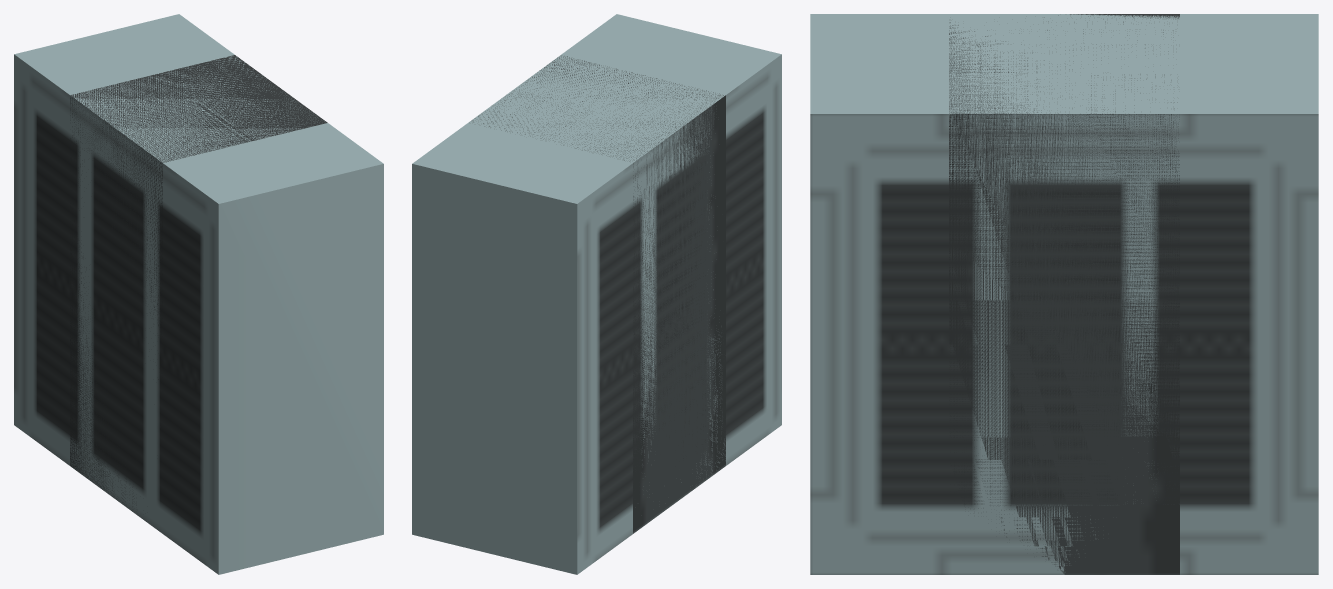
The model's file is LP_VENTSYS.fbx.
3 views of the same model, side by side, from view 1: azimuth 30°, elevation 25°; view 2: azimuth 150°, elevation 25°; view 3: azimuth 270°, elevation 25° (orthographic). The views are drawn at different scales.
Visible parts, largest first — view 1: VentHatch, Tube; view 2: VentHatch, Tube; view 3: VentHatch, Tube.
Boxes of the visible parts, x1,y1,x2,y2 form: VentHatch: (14,14,383,574); Tube: (70,55,327,506); VentHatch: (412,14,781,574); Tube: (472,55,725,533); VentHatch: (810,14,1318,574); Tube: (949,14,1179,574).
Bounding box in the file's own units: 0.9314 × 2 × 2.
Materials: 2 (2 with a texture image).
